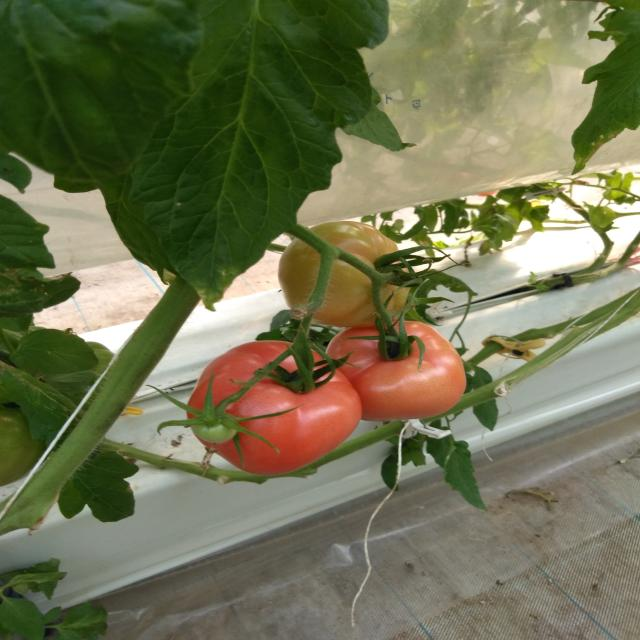n-half-riped: (278, 220, 413, 328), (322, 321, 466, 422)
n-riped: (186, 340, 362, 476)
n-unriped: (0, 404, 50, 486), (189, 411, 239, 444)
